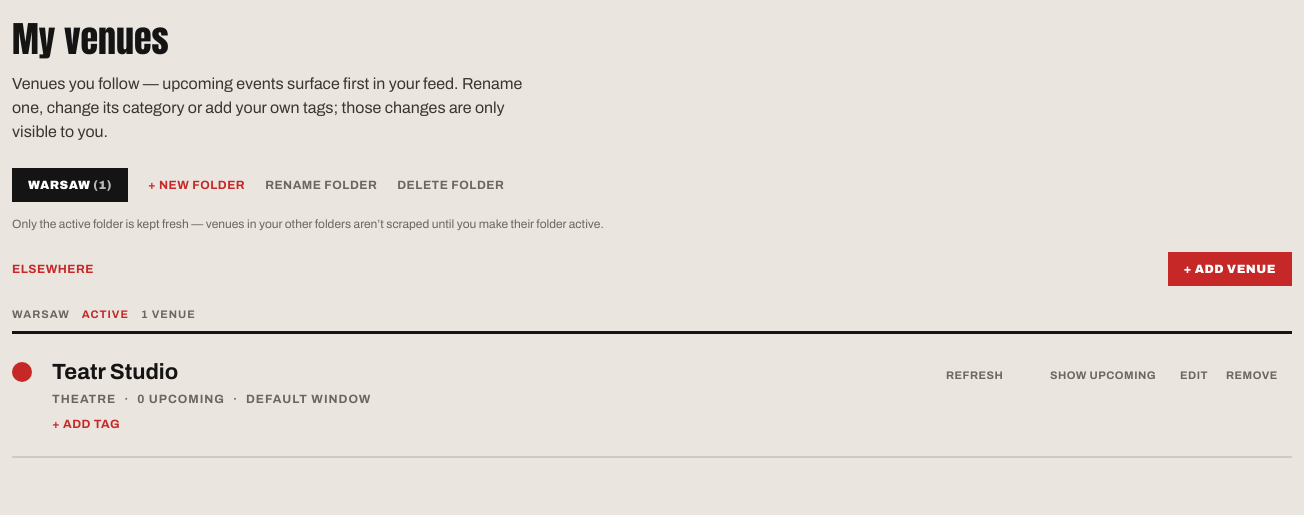
Test: MyVenuesSection — refresh / show upcoming (GOI-75) › opens the upcoming panel once a refresh comes back, without a second click
The image size is (1304, 515).
Expected: the text "Wesele" is not shown
Step 1. Click the button "Refresh" → [998, 375], box [946, 366, 1050, 383]
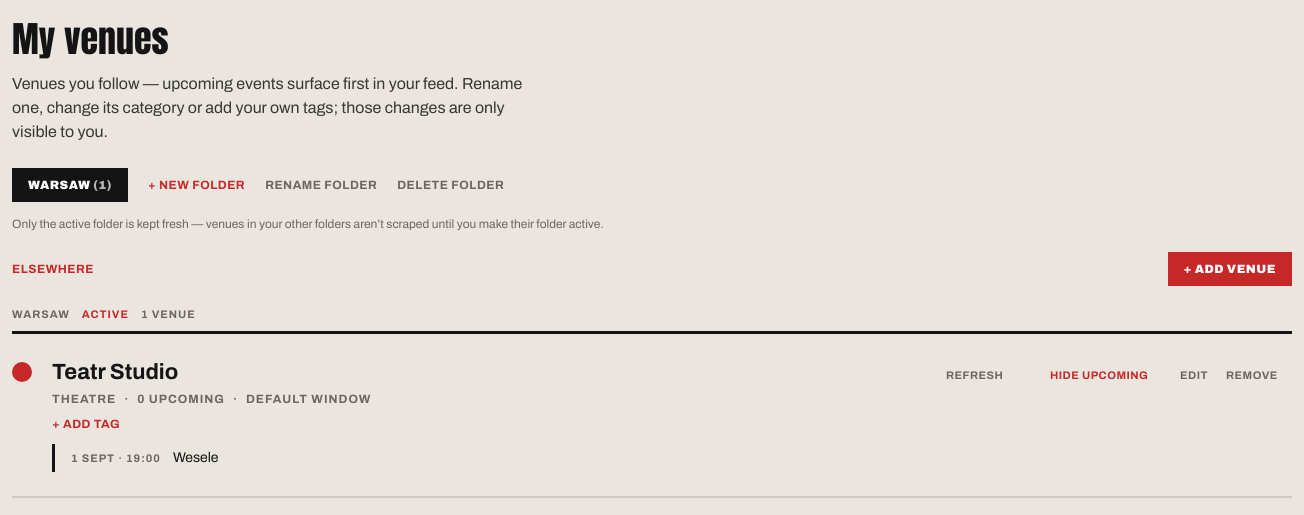
Expected: the link "Wesele" is shown, [173, 448, 218, 468]
Expected: the button "Hide upcoming" is shown, [1050, 366, 1180, 383]
